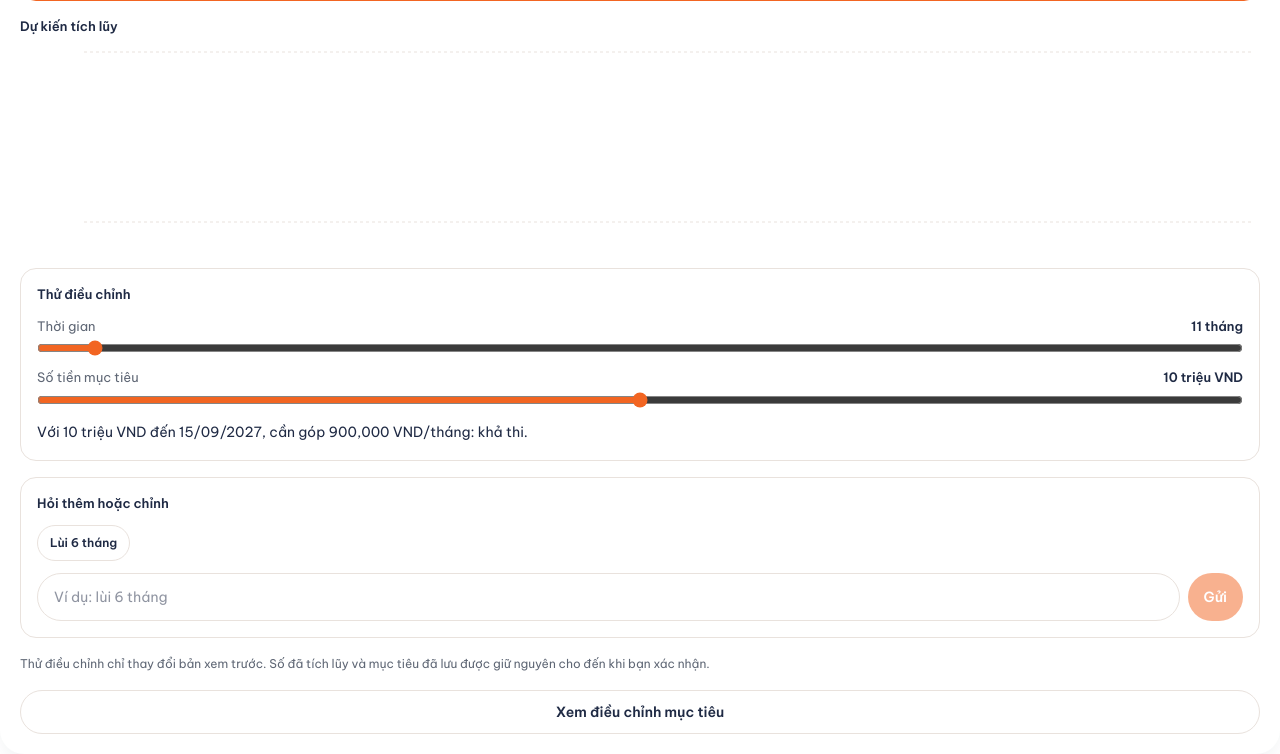
Test: saved goal assessment › does not turn a suggested savings amount into a recorded deposit
This screenshot has width=1280, height=754.
(page scrolled)
Step 1. Type "dùng thêm 2 triệu tiết kiệm" into the field with placeholder "Ví dụ: lùi 6 tháng" → (608, 597), box [37,573,1180,621]
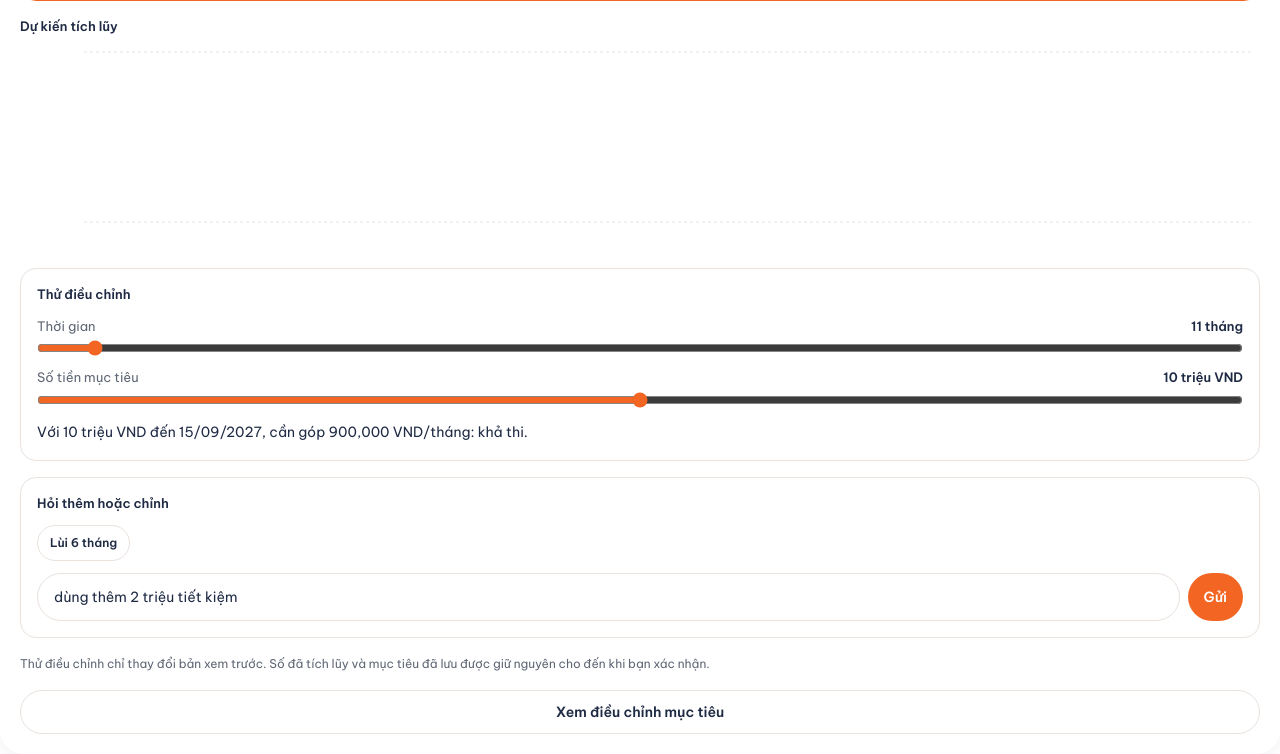
Step 2. Submit the form with placeholder "lùi", box [37,573,1243,621]
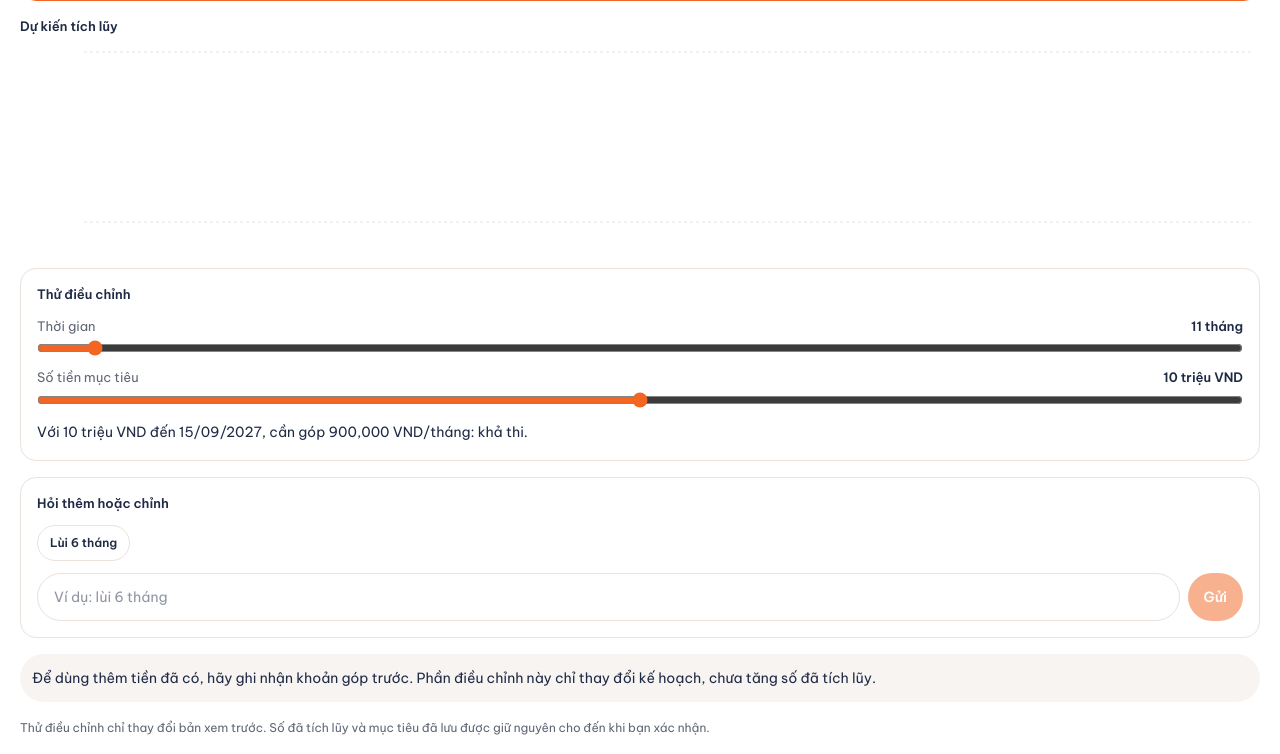
Check: the text "hãy ghi nhận khoản góp trước" is shown, box [32,669,876,687]
